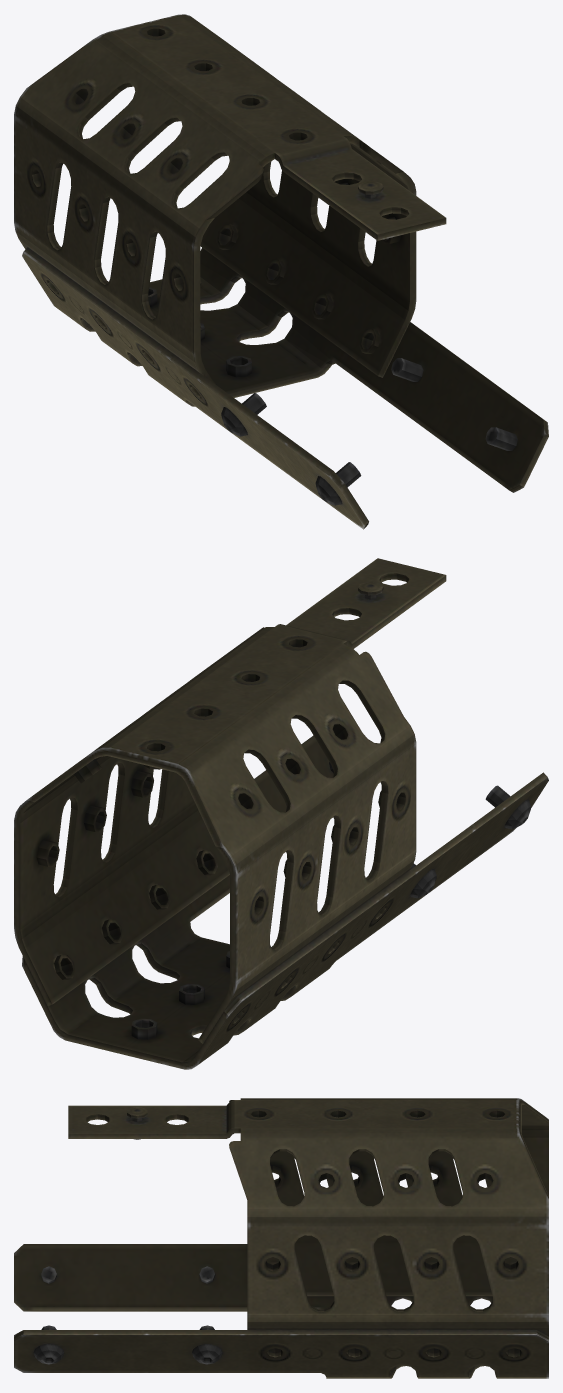
3 views of the same model, one above another, from view 1: azimuth 30°, elevation 25°; view 2: azimuth 150°, elevation 25°; view 3: azimuth 270°, elevation 25° (orthographic). The views are drawn at different scales.
Parts seen in each view (by area): view 1: TW_66ffeab4ab3336cc01063833_PZ_Import; view 2: TW_66ffeab4ab3336cc01063833_PZ_Import; view 3: TW_66ffeab4ab3336cc01063833_PZ_Import.
Part boxes in pixels (left/top/right/bottom): TW_66ffeab4ab3336cc01063833_PZ_Import: left=14, top=14, right=548, bottom=529; TW_66ffeab4ab3336cc01063833_PZ_Import: left=14, top=558, right=548, bottom=1069; TW_66ffeab4ab3336cc01063833_PZ_Import: left=14, top=1098, right=548, bottom=1378.
Size of the model in its own units: 0.0314 by 0.0781 by 0.0391.
1 material, 1 textured.
